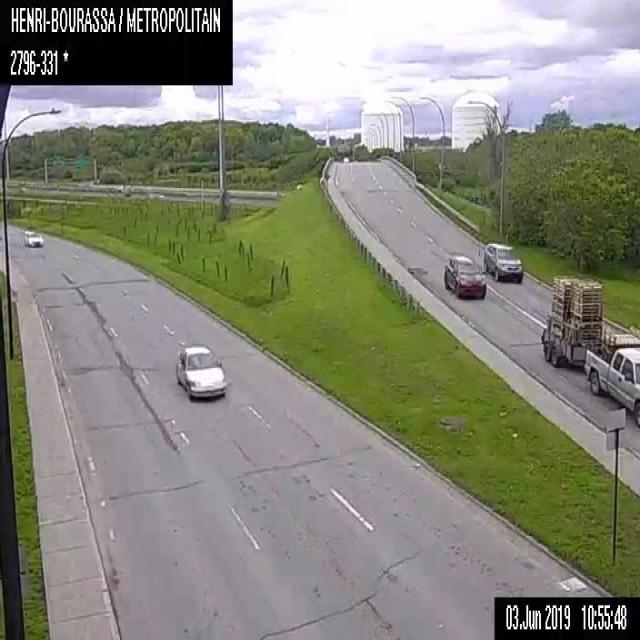vehicle: (542, 276, 639, 430), (176, 342, 226, 398), (443, 253, 486, 300), (483, 242, 522, 282), (21, 228, 43, 247), (343, 156, 348, 162)
